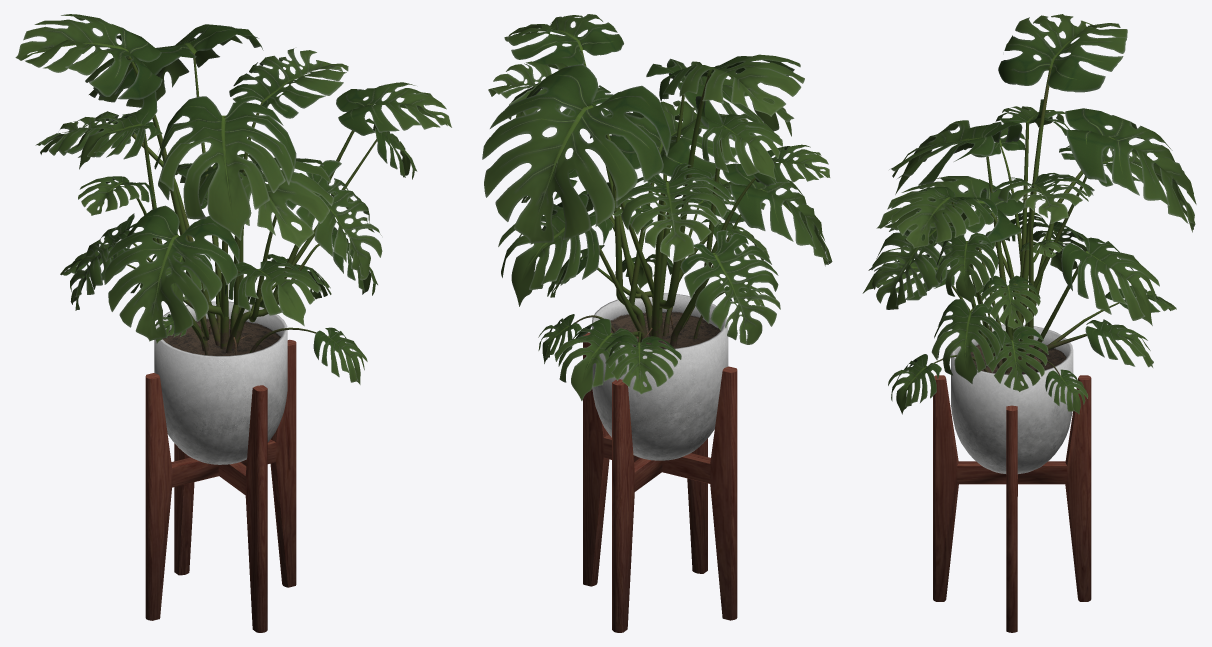
The model's file is plant.glb.
The picture shows the model from 3 angles, left to right: view 1: azimuth 30°, elevation 25°; view 2: azimuth 150°, elevation 25°; view 3: azimuth 270°, elevation 25°; orthographic projection. The views are drawn at different scales.
Parts seen in each view (by area): view 1: Leaves, Stand, Pot_LP, root_HP_1_Mat.2_0; view 2: Leaves, Stand, Pot_LP, root_HP_1_Mat.2_0; view 3: Leaves, Stand, Pot_LP, root_HP_1_Mat.2_0.
Boxes of the visible parts, x1,y1,x2,y2 form: Leaves: (15, 14, 451, 384); Stand: (145, 339, 296, 632); Pot_LP: (154, 301, 287, 464); root_HP_1_Mat.2_0: (124, 53, 376, 355); Leaves: (482, 14, 832, 400); Stand: (583, 332, 737, 632); Pot_LP: (592, 293, 728, 460); root_HP_1_Mat.2_0: (559, 50, 755, 346); Leaves: (862, 14, 1196, 414); Stand: (933, 375, 1091, 632); Pot_LP: (951, 324, 1073, 473); root_HP_1_Mat.2_0: (933, 68, 1119, 375).
Bounding box in the file's own units: 0.8695 × 1.36 × 0.7911.
Materials: 3 (3 with a texture image).
